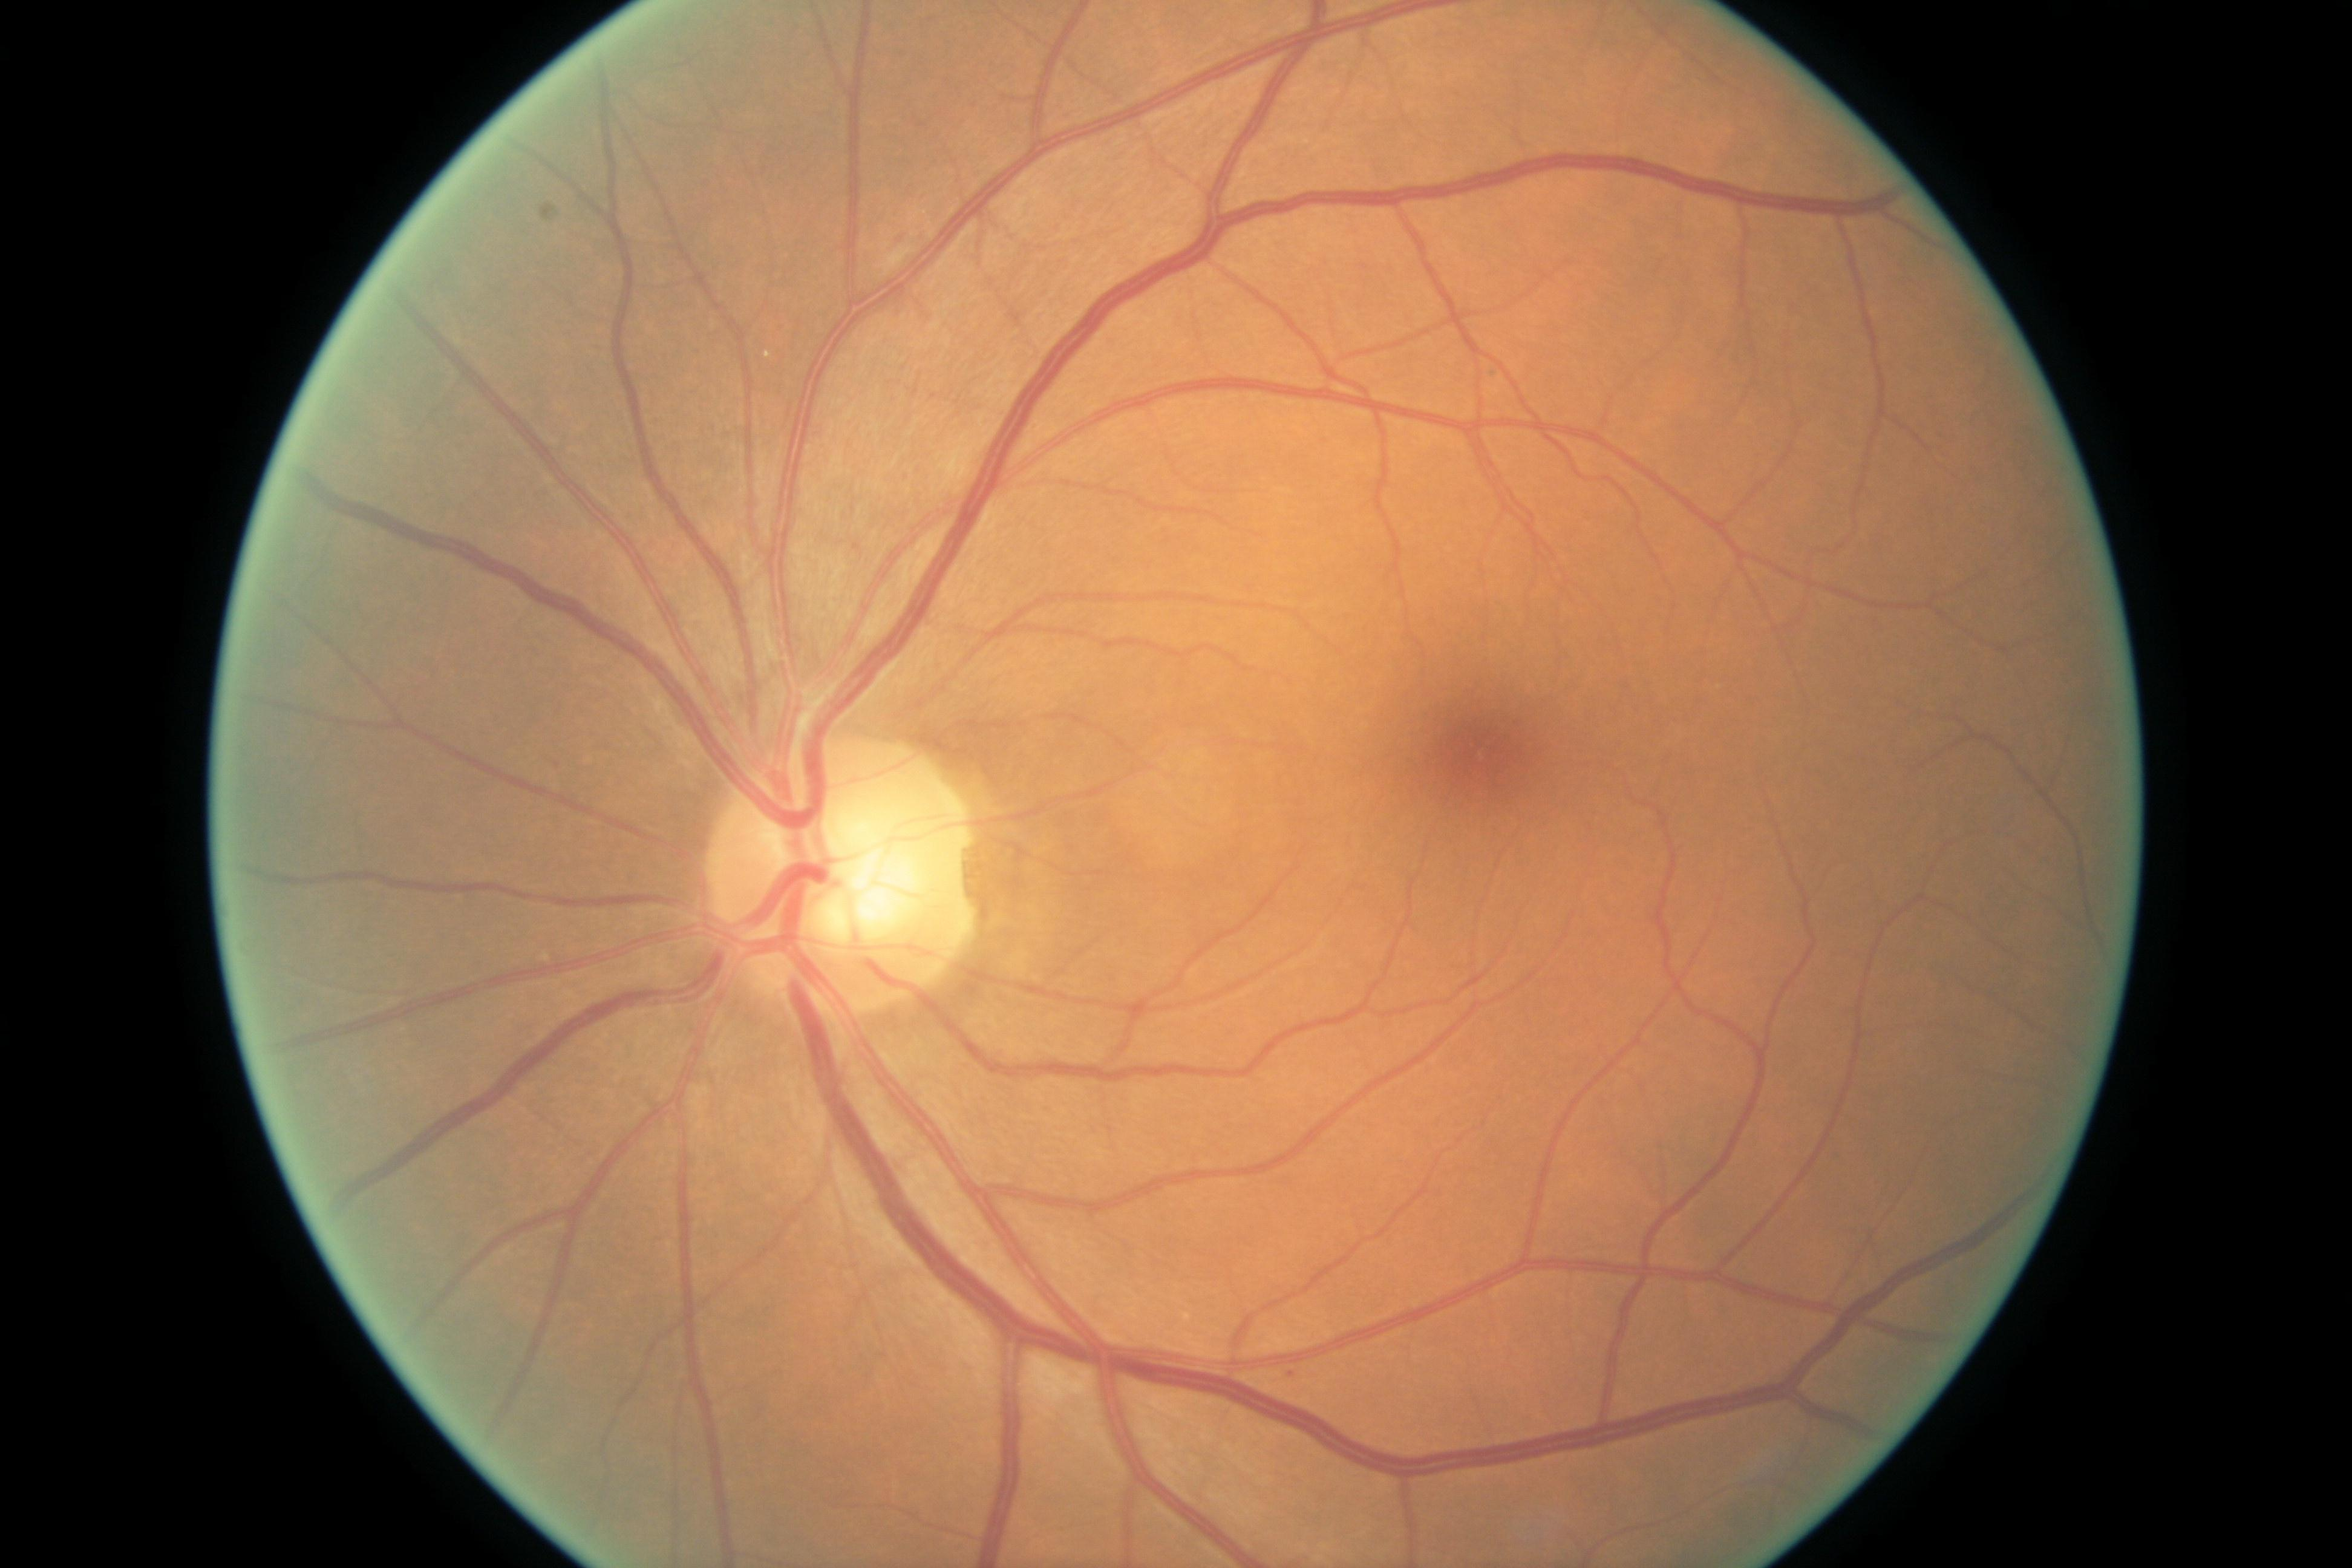Optic-nerve: (698, 737, 1001, 1048)
macula: (1328, 584, 1654, 889)
